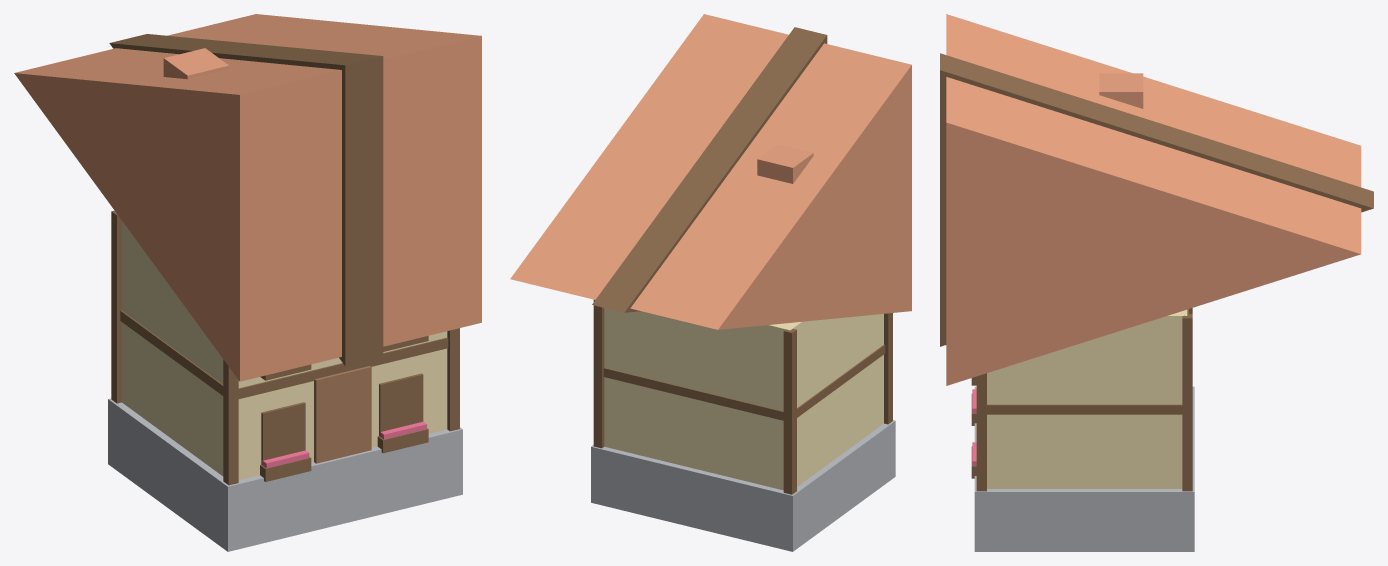
File: house_tudor.glb
The picture shows the model from 3 angles, left to right: view 1: azimuth 30°, elevation 25°; view 2: azimuth 150°, elevation 25°; view 3: azimuth 270°, elevation 25°; orthographic projection. The views are drawn at different scales.
Visible parts, largest first — view 1: Cylinder, TudorFoundation, TudorBody, Cylinder.001, Cube.024, Cube.004, Cube.013, Cube.009, Cube.001, Cube, Cube.007, Cube.002 (+2 smaller); view 2: Cylinder, TudorBody, TudorFoundation, Cylinder.001, Cube.004, Cube.001, Cube.003, Cube.007, Cube; view 3: Cylinder, TudorBody, TudorFoundation, Cylinder.001, Cube.004, Cube.003, Cube.007, Cube.002.
Boxes of the visible parts, x1,y1,x2,y2 form: Cylinder: (14,14,481,381); TudorFoundation: (108,398,462,551); TudorBody: (122,221,447,479); Cylinder.001: (109,34,383,366); Cube.024: (314,366,371,463); Cube.004: (120,310,448,398); Cube.013: (379,373,423,436); Cube.009: (261,402,305,464); Cube.001: (111,210,121,403); Cube: (223,359,238,485); Cube.007: (163,48,229,79); Cube.002: (447,328,459,431); Cylinder: (510,14,911,329); TudorBody: (604,308,883,490); TudorFoundation: (591,420,895,551); Cylinder.001: (592,27,827,312); Cube.004: (603,344,885,420); Cube.001: (783,329,796,494); Cube.003: (593,299,604,448); Cube.007: (757,144,813,183); Cube: (884,313,892,424); Cylinder: (946,14,1361,385); TudorBody: (987,309,1187,488); TudorFoundation: (974,386,1194,551); Cylinder.001: (940,53,1373,346); Cube.004: (987,309,1188,414); Cube.003: (1182,314,1192,491); Cube.007: (1099,73,1143,108); Cube.002: (976,373,986,491).
Bounding box in the file's own units: 3.5 × 6.58 × 5.91.
